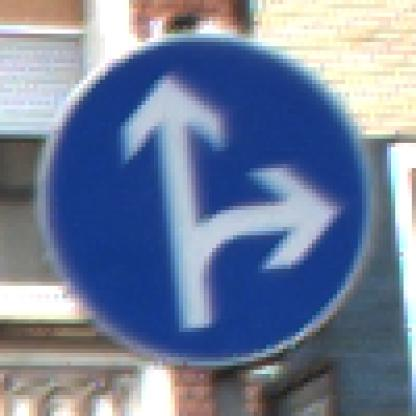Straight or Right: (38, 35, 384, 384)
